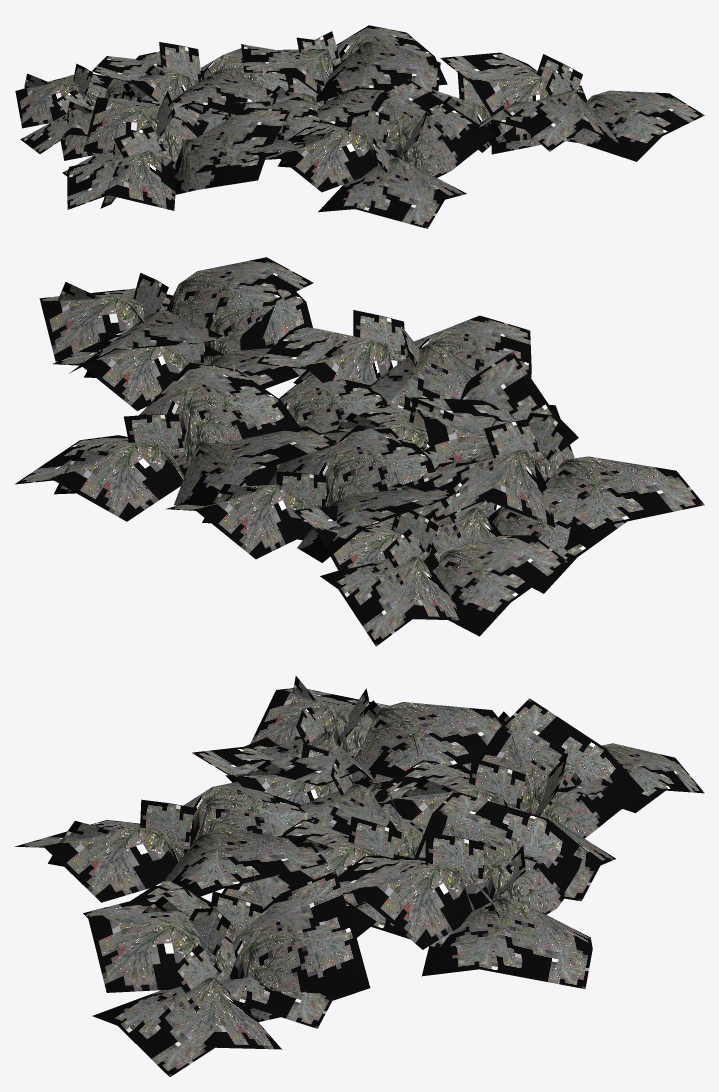
File: pineshrub03snow-transformed.glb
3 renders of one model, top to bottom at view 1: azimuth 30°, elevation 25°; view 2: azimuth 150°, elevation 25°; view 3: azimuth 270°, elevation 25°, orthographic. The views are drawn at different scales.
Visible parts, largest first — view 1: default; view 2: default; view 3: default.
Part boxes in pixels (bbox=[...]): default: bbox=[15, 25, 704, 228]; default: bbox=[14, 257, 704, 646]; default: bbox=[14, 676, 704, 1076].
Bounding box in the file's own units: 4.11 × 0.6379 × 3.21.
1 material, 1 textured.
